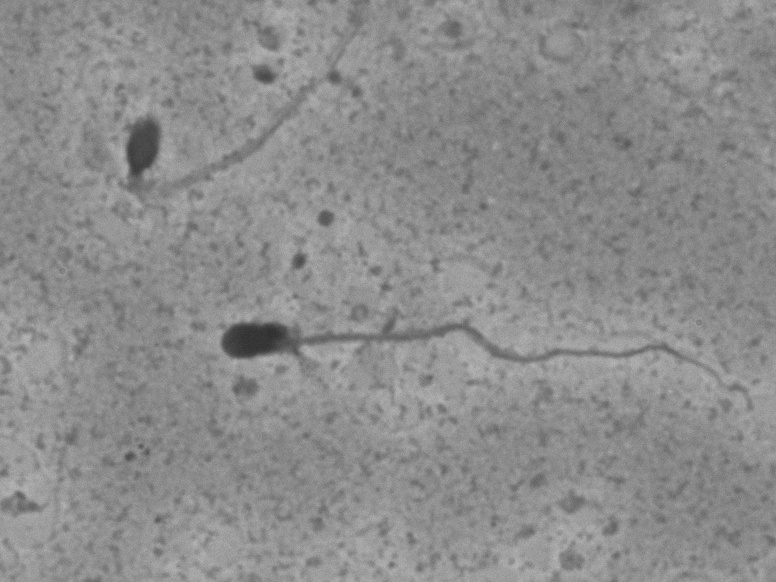Abnormal: (195, 281, 750, 448), (94, 28, 381, 228)
